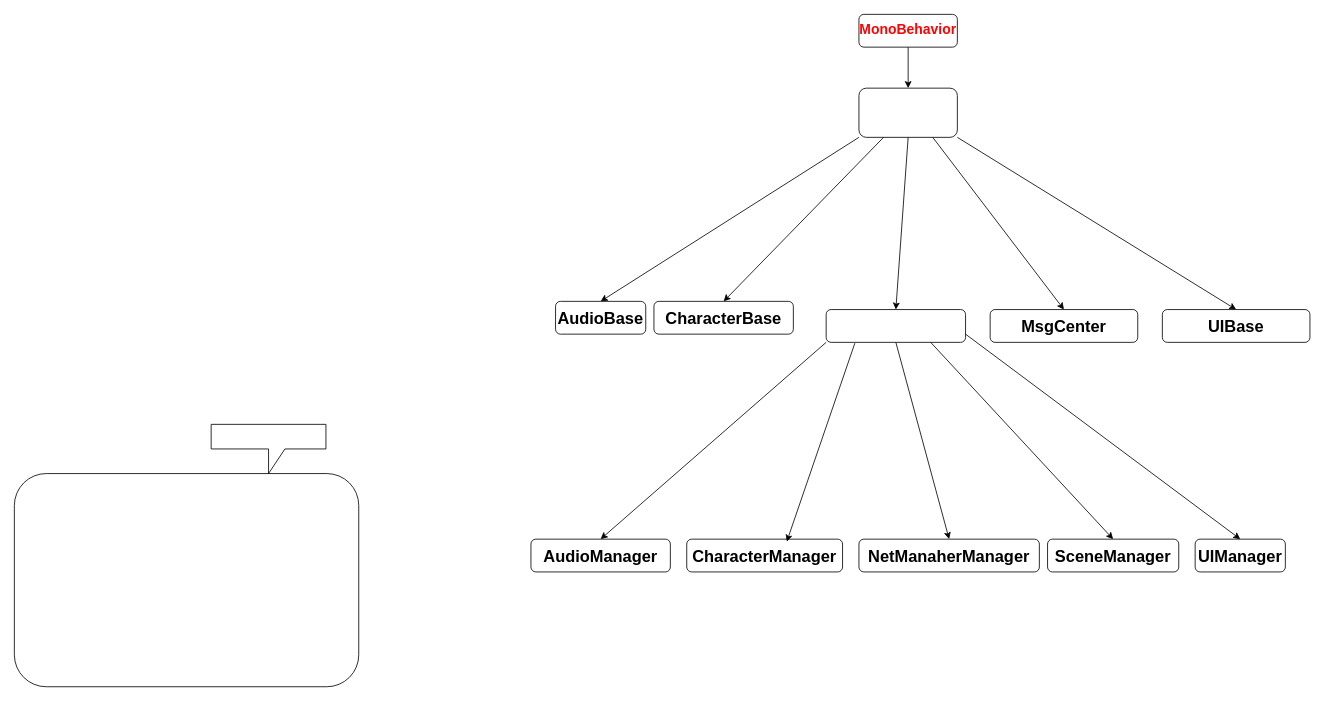
The diagram is 1324 pixels wide and 701 high, and some of its shapes have lost their labels. Each missing label, with the centre of its shape:
"GameObject" goes at point (268, 449).
"ManagerBase" goes at point (895, 325).
"MonoBase" goes at point (907, 112).
